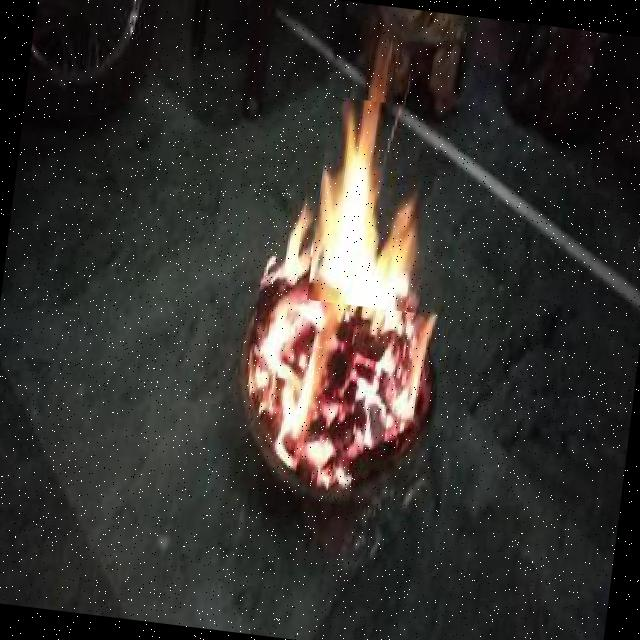fire: (306, 96, 442, 313)
